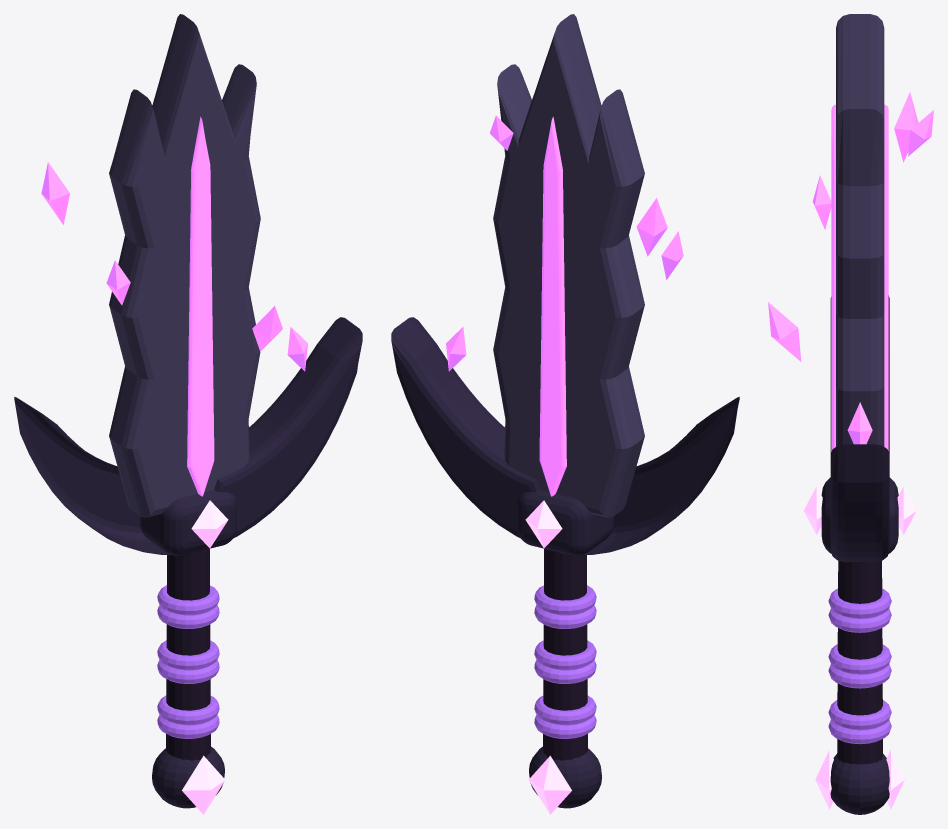
File: uniq1h.glb
The picture shows the model from 3 angles, left to right: view 1: azimuth 30°, elevation 25°; view 2: azimuth 150°, elevation 25°; view 3: azimuth 270°, elevation 25°; orthographic projection.
Visible parts, largest first — view 1: blade, guard, core, wrap, grip, gem; view 2: blade, guard, core, wrap, grip, gem; view 3: blade, guard, core, wrap, grip, gem.
Boxes of the visible parts, x1,y1,x2,y2 form: blade: [109, 14, 260, 517]; guard: [14, 317, 362, 808]; core: [41, 116, 307, 496]; wrap: [157, 585, 219, 738]; grip: [166, 548, 210, 760]; gem: [151, 500, 228, 814]; blade: [493, 14, 644, 517]; guard: [391, 317, 739, 808]; core: [446, 115, 683, 496]; wrap: [534, 585, 596, 738]; grip: [543, 548, 587, 760]; gem: [525, 500, 602, 814]; blade: [836, 14, 884, 446]; guard: [821, 295, 898, 814]; core: [768, 92, 933, 451]; wrap: [828, 588, 891, 744]; grip: [837, 561, 882, 764]; gem: [803, 486, 916, 809].
Bounding box in the file's own units: 1.5 × 3.44 × 0.6482.
